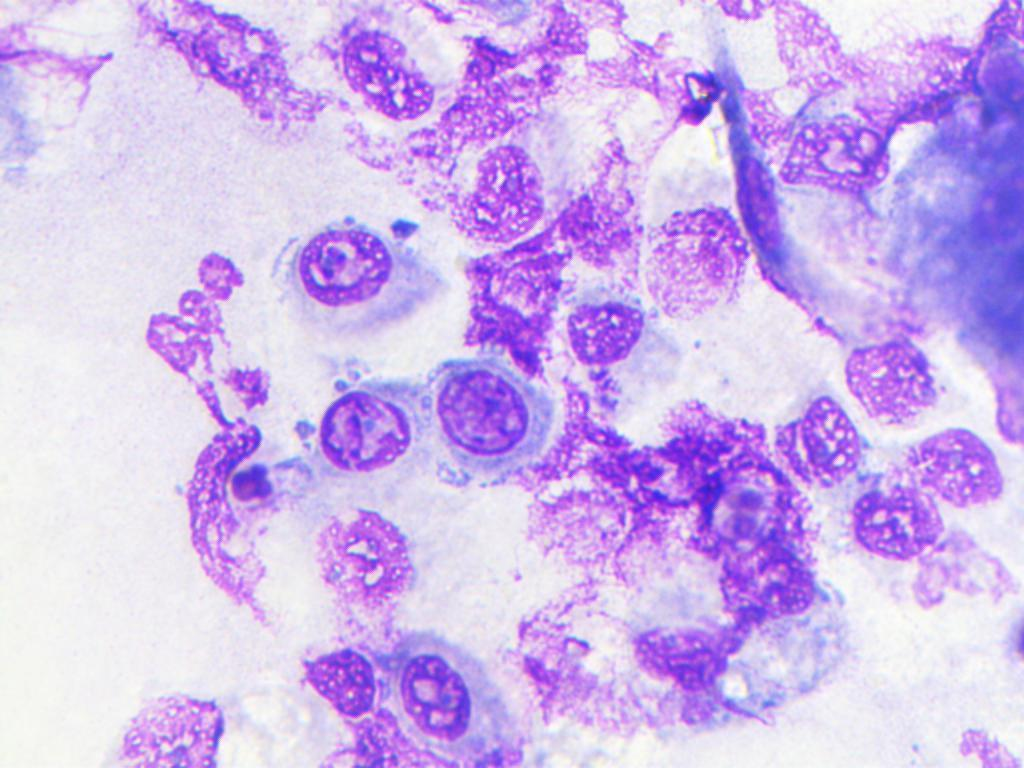artifact: (133, 232, 279, 630), (437, 30, 718, 133), (122, 0, 333, 133), (720, 54, 813, 301), (463, 238, 561, 366), (566, 137, 646, 271)
epithelial: (301, 499, 447, 626), (390, 624, 517, 767), (299, 350, 415, 495), (649, 204, 753, 337), (419, 365, 531, 470), (450, 137, 546, 252), (319, 27, 432, 124), (899, 428, 1024, 510), (827, 338, 938, 428), (775, 389, 869, 493), (127, 674, 231, 768), (294, 228, 395, 311), (561, 286, 651, 379), (283, 646, 378, 726), (848, 492, 939, 558), (711, 473, 779, 547)
